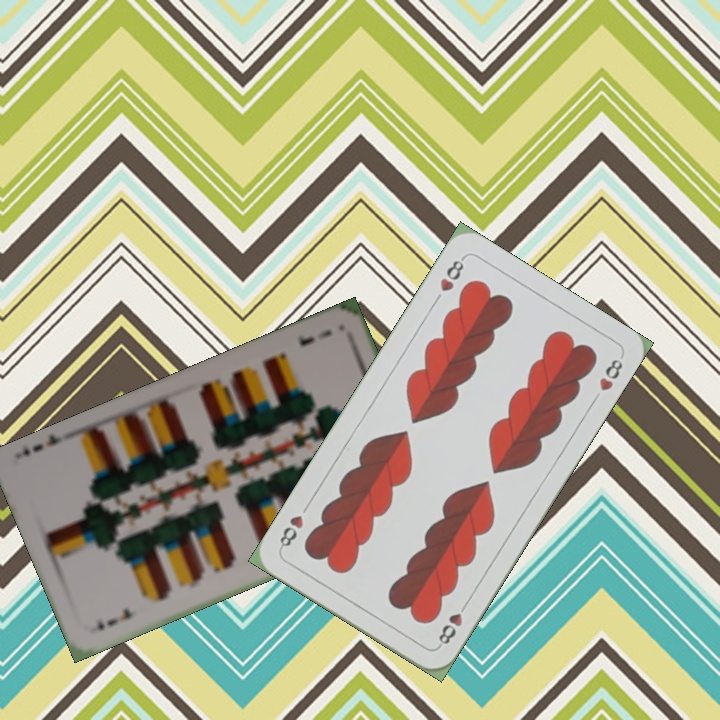E7: (92, 604, 140, 633), (294, 326, 334, 349)
H8: (434, 597, 471, 650), (435, 252, 467, 295)
